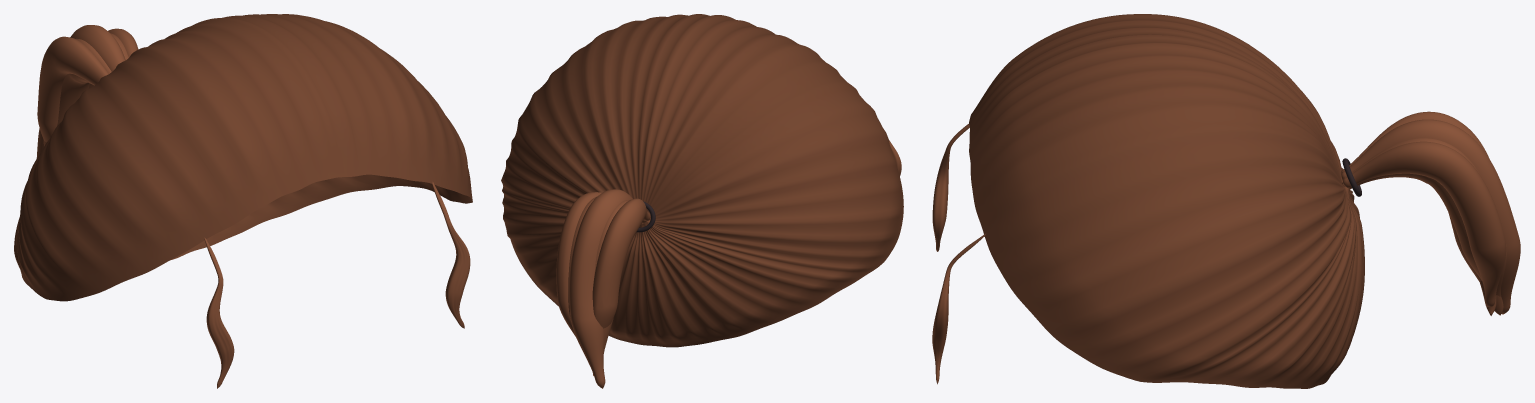
File: Feminine-hair264.glb
3 views of the same model, side by side, from view 1: azimuth 30°, elevation 25°; view 2: azimuth 150°, elevation 25°; view 3: azimuth 270°, elevation 25° (orthographic). The views are drawn at different scales.
Parts seen in each view (by area): view 1: Hair / swept roots220, Hair / rounded tail220 0, Hair / adjustable front216 1, Hair / adjustable front216 -1, Hair / rounded tail220 2, Hair / rounded tail220 1; view 2: Hair / swept roots220, Hair / rounded tail220 2, Hair / rounded tail220 0, Hair / rounded tail220 4, Hair / rounded tail220 1; view 3: Hair / swept roots220, Hair / rounded tail220 4, Hair / rounded tail220 2, Hair / rounded tail220 3, Hair / adjustable front216 1, Hair / adjustable front216 -1, Hair / rounded tail220 0.
Boxes of the visible parts, x1,y1,x2,y2 form: Hair / swept roots220: [14, 14, 472, 301]; Hair / rounded tail220 0: [37, 36, 108, 142]; Hair / adjustable front216 1: [432, 182, 470, 328]; Hair / adjustable front216 -1: [204, 237, 234, 388]; Hair / rounded tail220 2: [36, 25, 125, 158]; Hair / rounded tail220 1: [43, 38, 111, 146]; Hair / swept roots220: [501, 14, 903, 347]; Hair / rounded tail220 2: [569, 189, 632, 388]; Hair / rounded tail220 0: [592, 198, 650, 375]; Hair / rounded tail220 4: [556, 192, 601, 336]; Hair / rounded tail220 1: [594, 200, 646, 353]; Hair / swept roots220: [969, 14, 1364, 388]; Hair / rounded tail220 4: [1343, 141, 1506, 306]; Hair / rounded tail220 2: [1341, 119, 1520, 314]; Hair / rounded tail220 3: [1343, 138, 1507, 296]; Hair / adjustable front216 1: [932, 233, 985, 384]; Hair / adjustable front216 -1: [932, 124, 969, 251]; Hair / rounded tail220 0: [1341, 111, 1496, 315].
Bounding box in the file's own units: 0.9758 × 0.6634 × 1.1.
